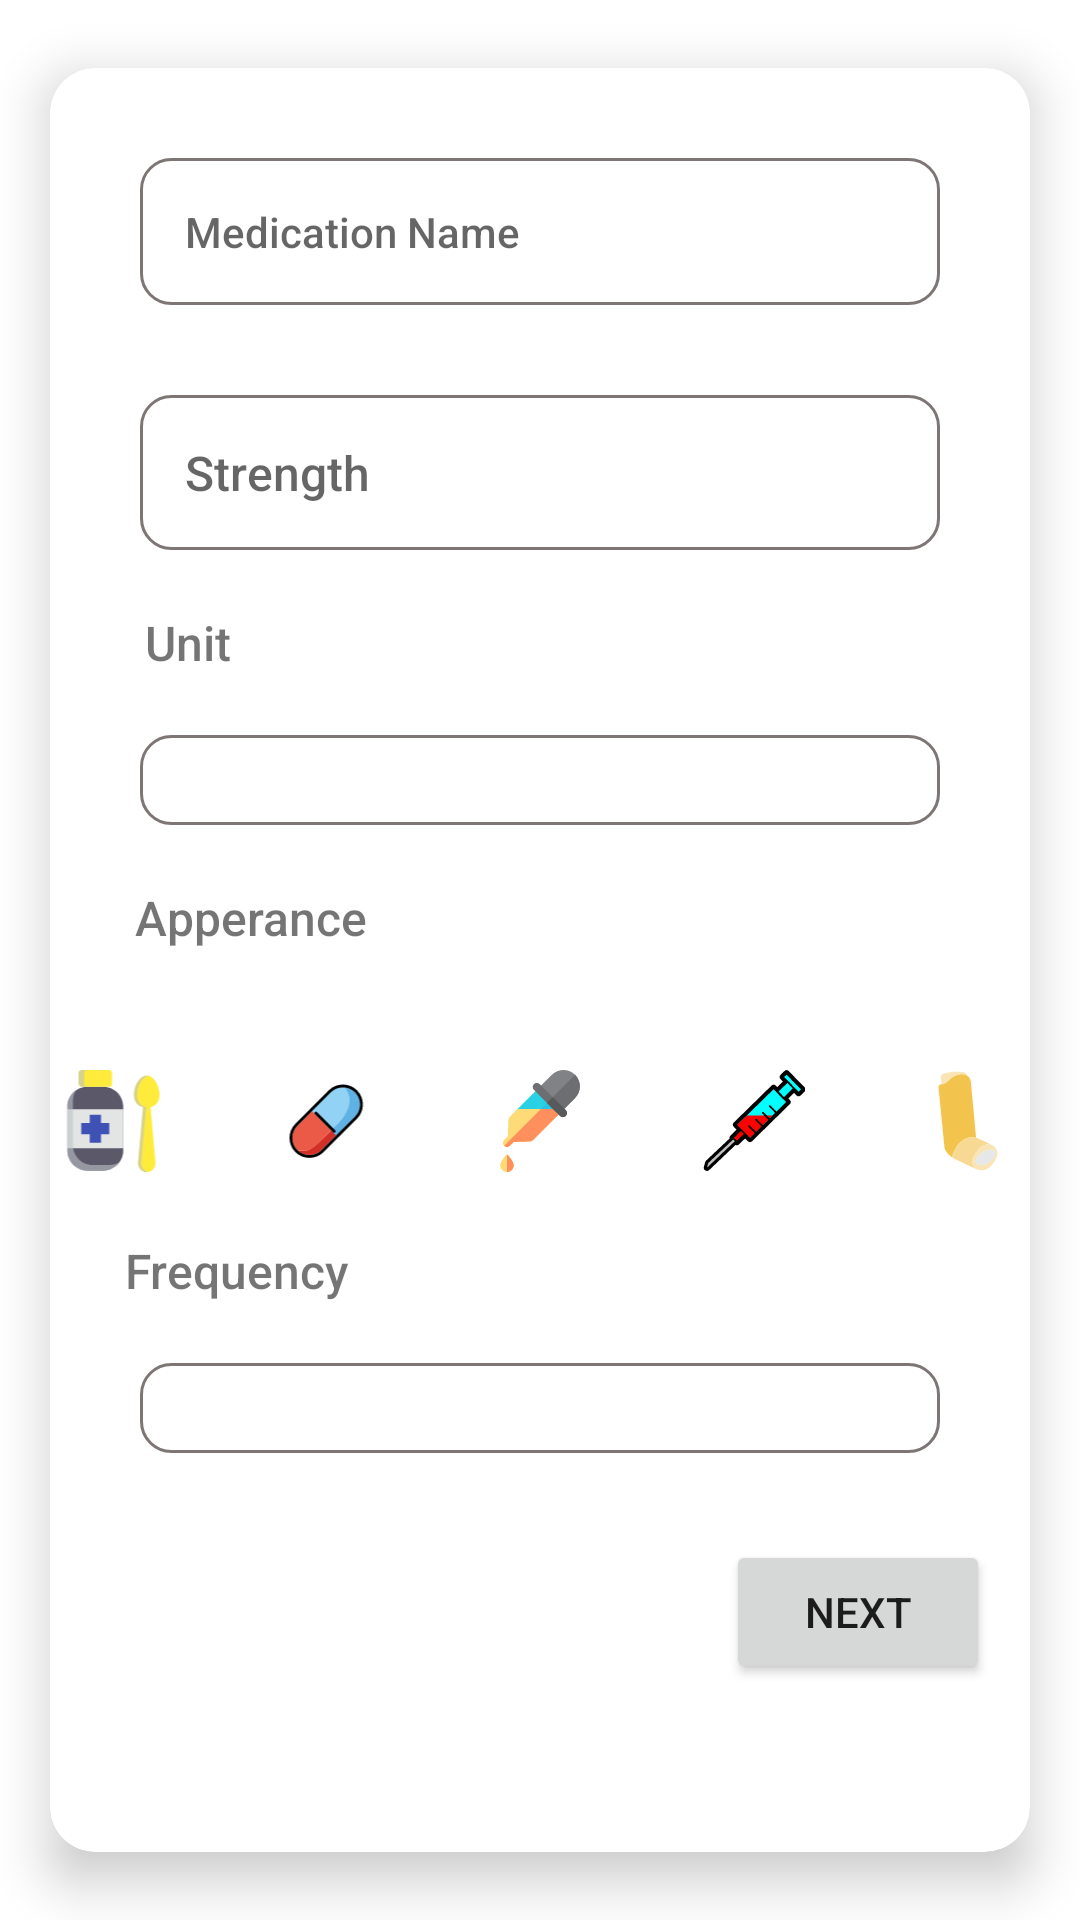

Locate icon controls on the screen. Image size 1080px x 1920px, boxes as [left=x1, top=y1, right=x2, bottom=y2].
medication eyedrop: [left=500, top=1070, right=580, bottom=1172]
medication injection: [left=703, top=1070, right=805, bottom=1171]
medication pill: [left=289, top=1084, right=364, bottom=1158]
